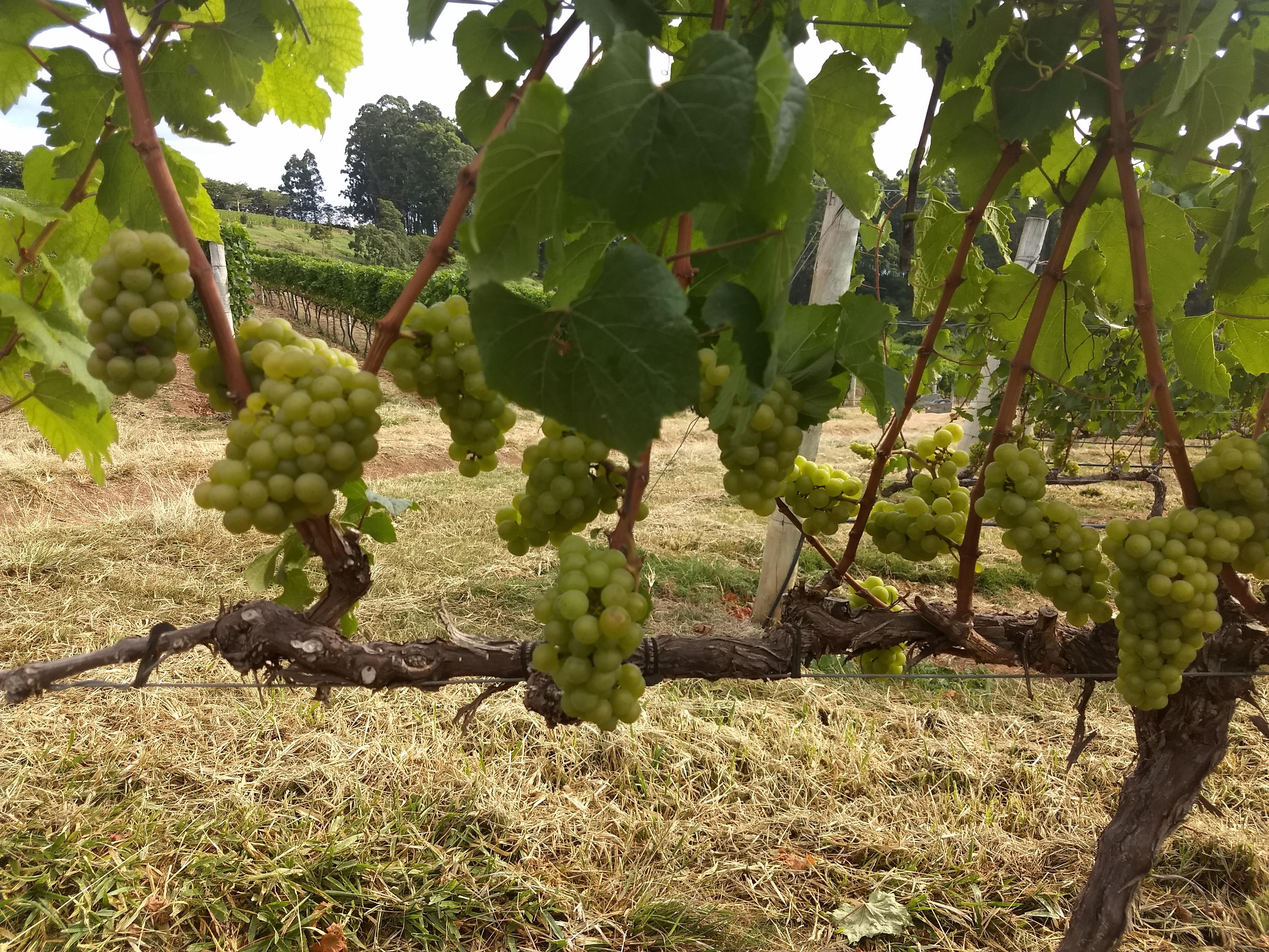leaf: (471, 242, 698, 455), (564, 31, 756, 229), (464, 78, 565, 284), (808, 52, 891, 218), (10, 365, 118, 484), (992, 6, 1086, 140), (37, 46, 116, 177), (0, 0, 89, 112), (189, 0, 277, 110), (1165, 0, 1237, 113), (801, 0, 910, 73), (701, 282, 773, 388), (1170, 314, 1230, 396), (455, 76, 514, 147), (407, 0, 446, 40), (38, 50, 51, 56), (46, 60, 46, 61)
